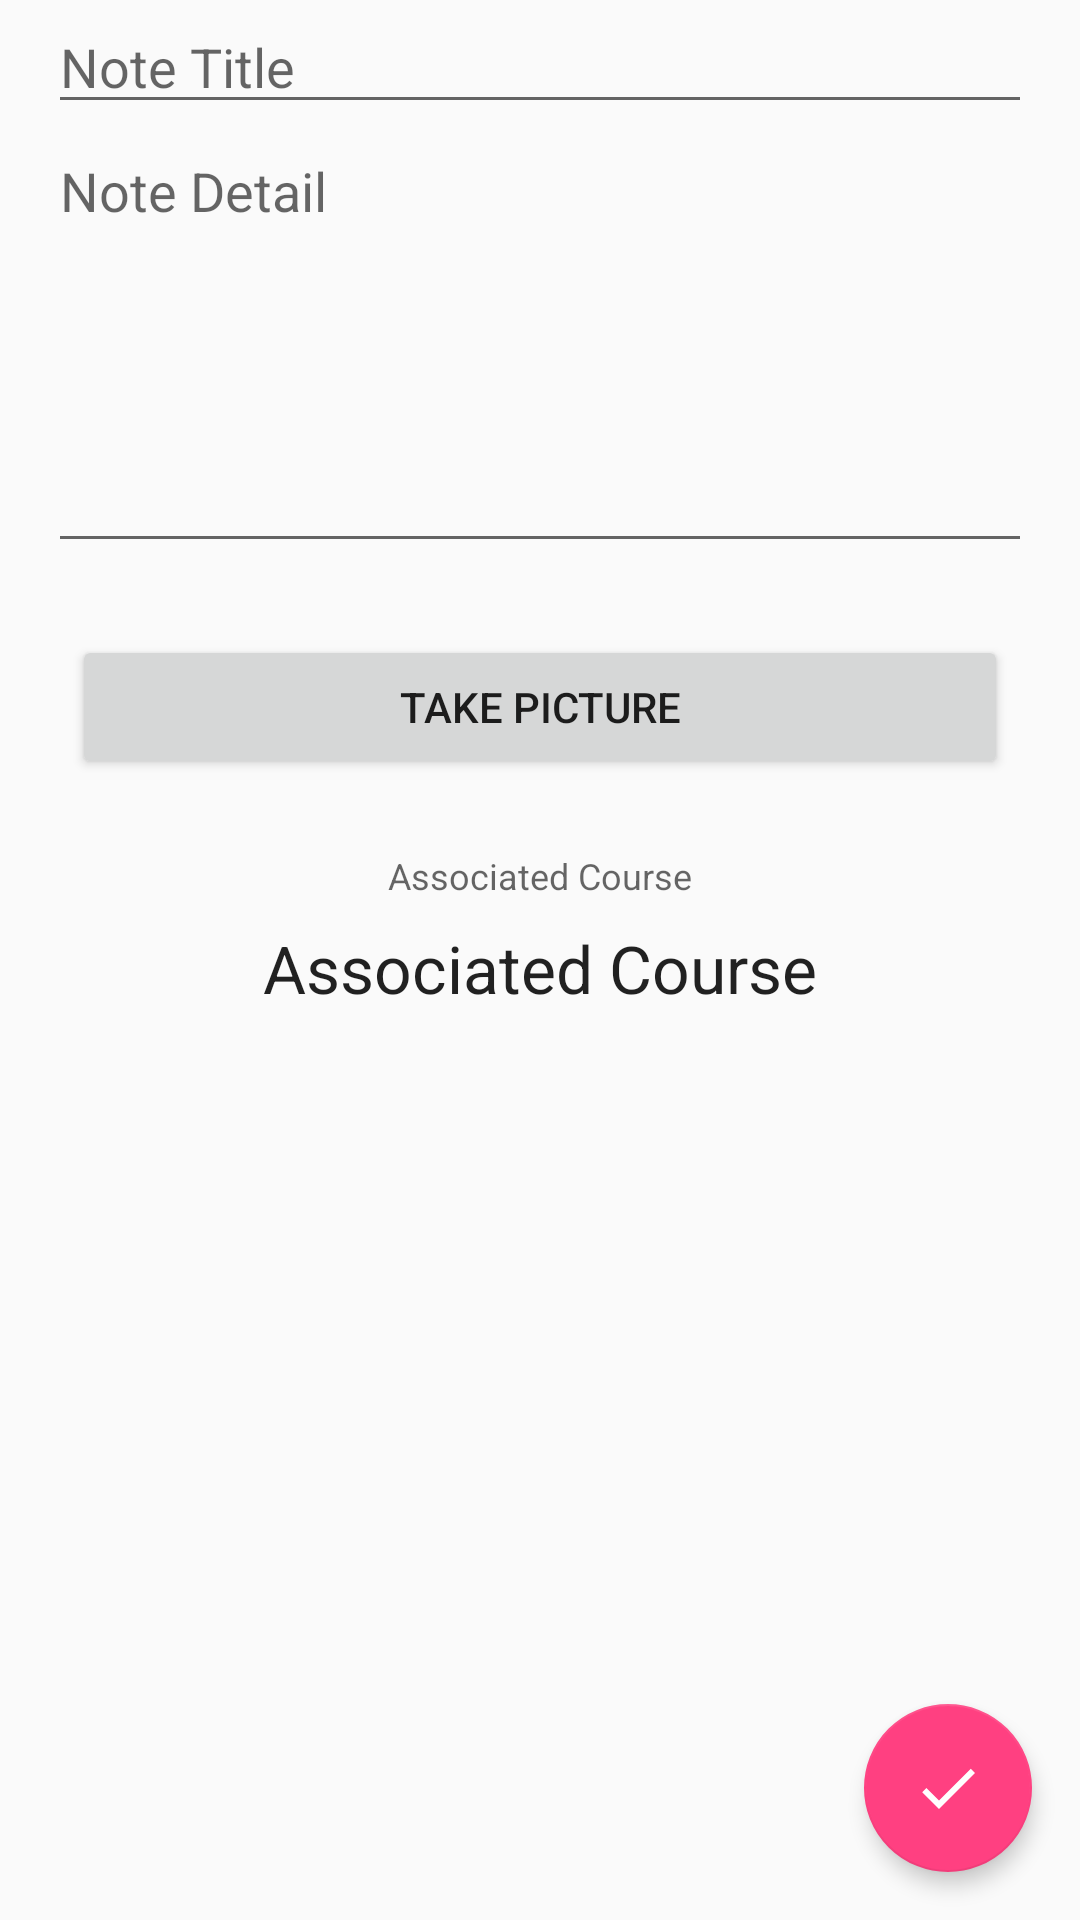

Where icons sit on this 1080×1920 app screen, as (x1, y1, x2, y2):
done: (864, 1704, 1032, 1872)
